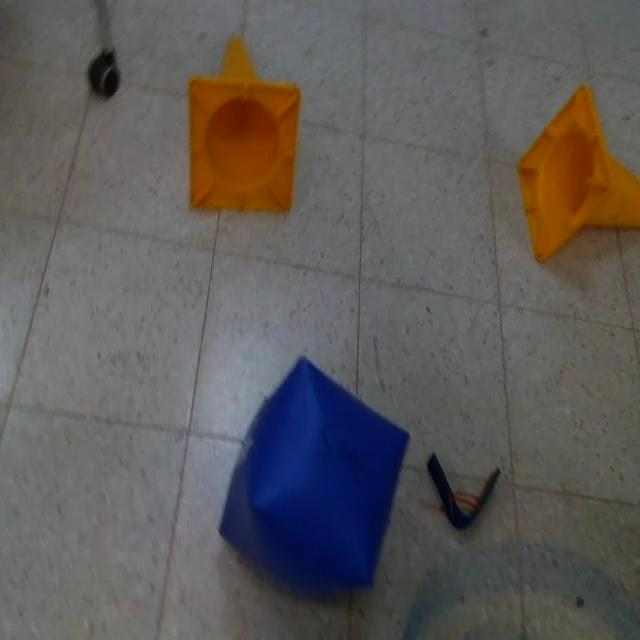cone: (519, 80, 640, 264), (192, 39, 301, 210)
cube: (218, 351, 410, 594)
